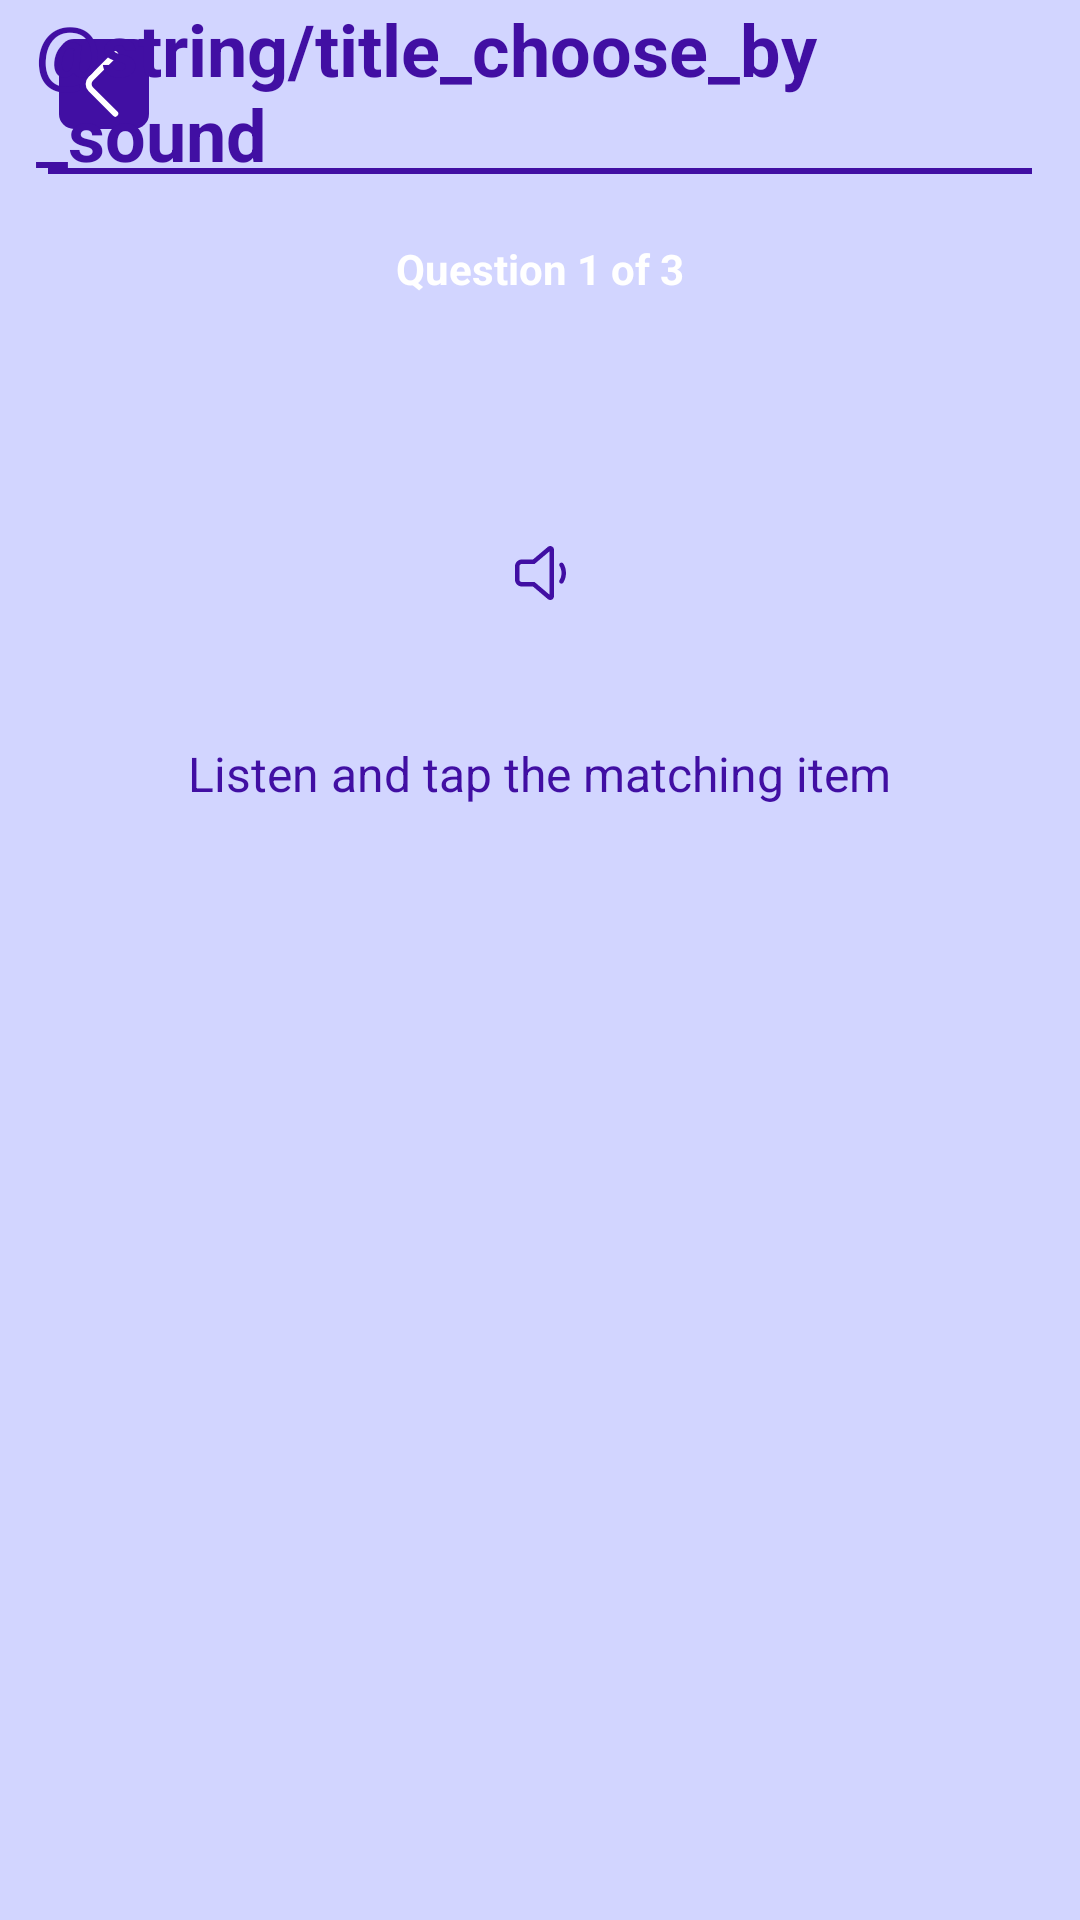

Icon bounding boxes for this 1080px×1920px phone screenshot, format rect(x1, y1, x2, y2):
Back: rect(39, 27, 171, 151)
Play sound: rect(515, 546, 566, 600)
